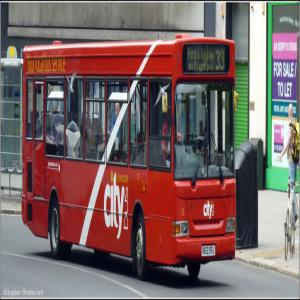Vehicle-registration-plate: (202, 245, 216, 260)
